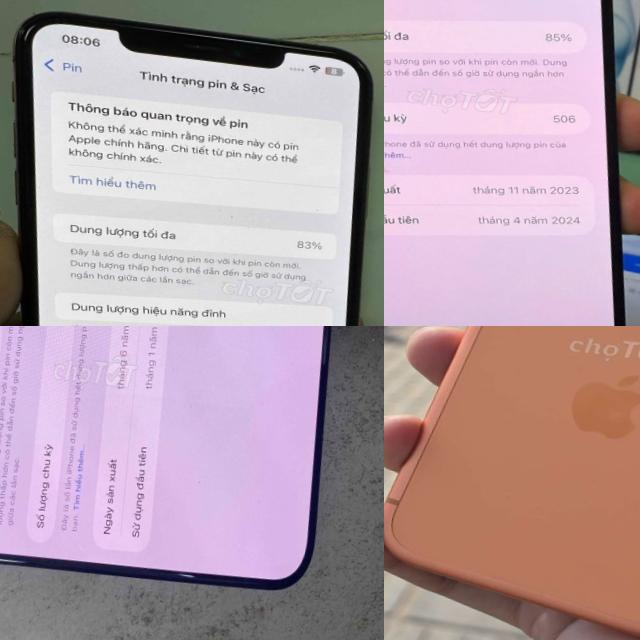gen_15: (0, 326, 353, 623), (384, 0, 640, 326)
gen_17: (384, 326, 640, 640)
gen_x_xs: (0, 6, 384, 326)
